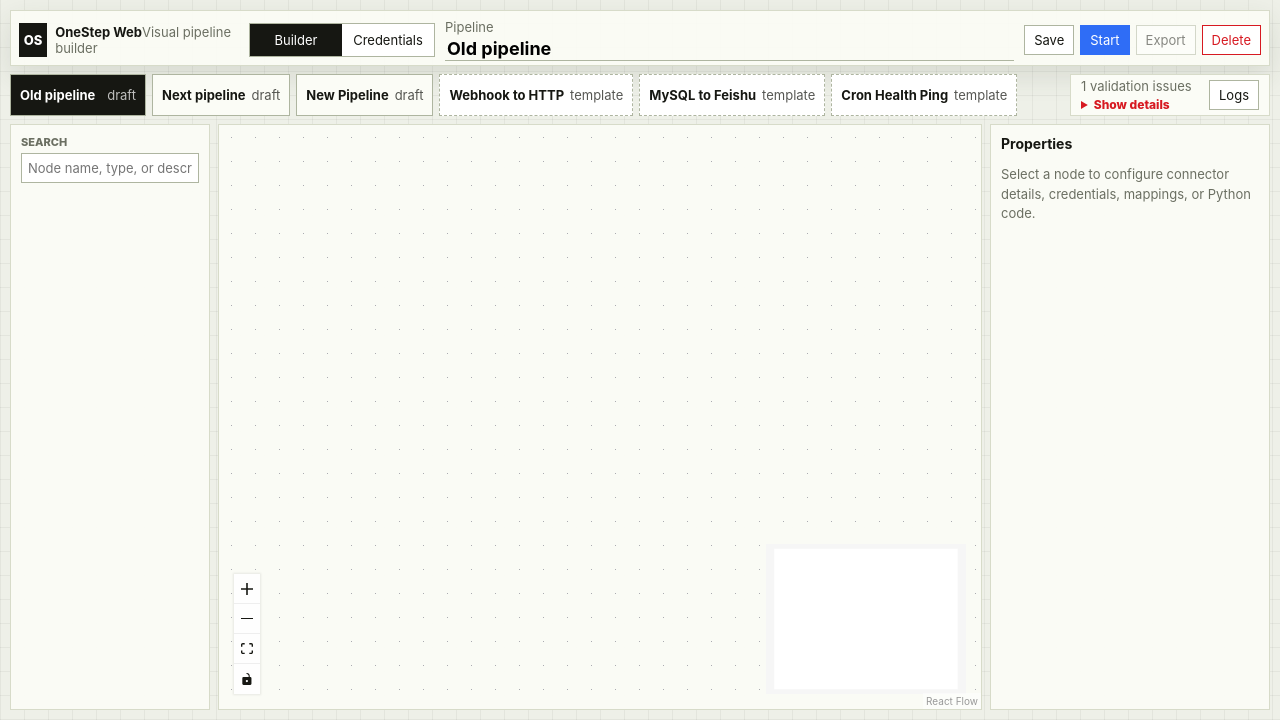
Test case: App › deletes the active pipeline and loads the next saved pipeline
Check: the field showing "Old pipeline" is shown, box [445,37,1014,61]
Step 1. Click the button "Delete" → point(1231, 40), box [1202,25,1261,55]
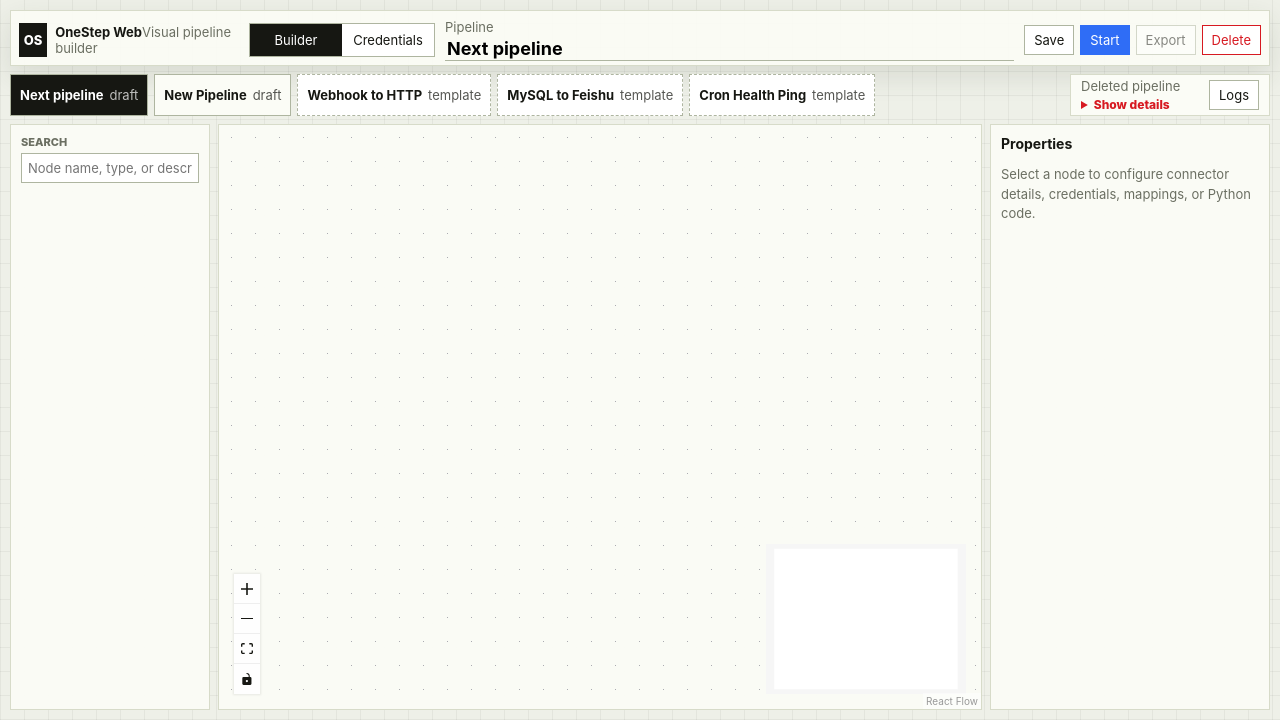
Check: the field showing "Next pipeline" is shown, box [445,37,1014,61]
Check: the text "Deleted pipeline" is shown, box [1081,78,1180,94]
